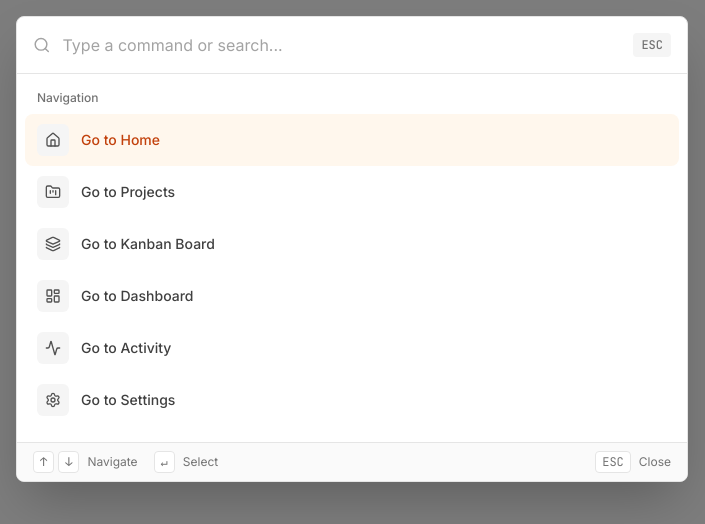
CommandPalette › Search Functionality › should filter commands based on search input
This screenshot has width=705, height=524.
Expected: the text "Go to Home" is shown, [81,130,160,150]
Expected: the text "Go to Projects" is shown, [81,182,175,202]
Type "project" to filter
Type "project" into the dropdown with placeholder "Type a command or search..." at (342, 45), box [62,17,621,73]
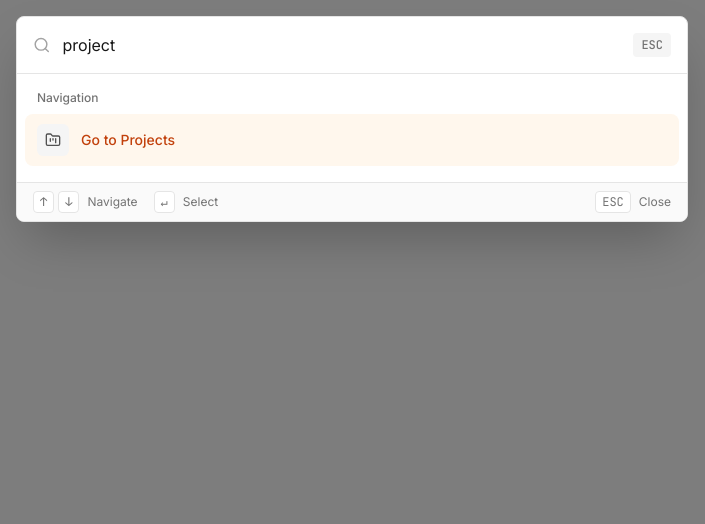
Expected: the text "Go to Projects" is shown, [81,130,175,150]
Expected: the option "Go to Home" is gone
Expected: the option "Go to Settings" is gone
